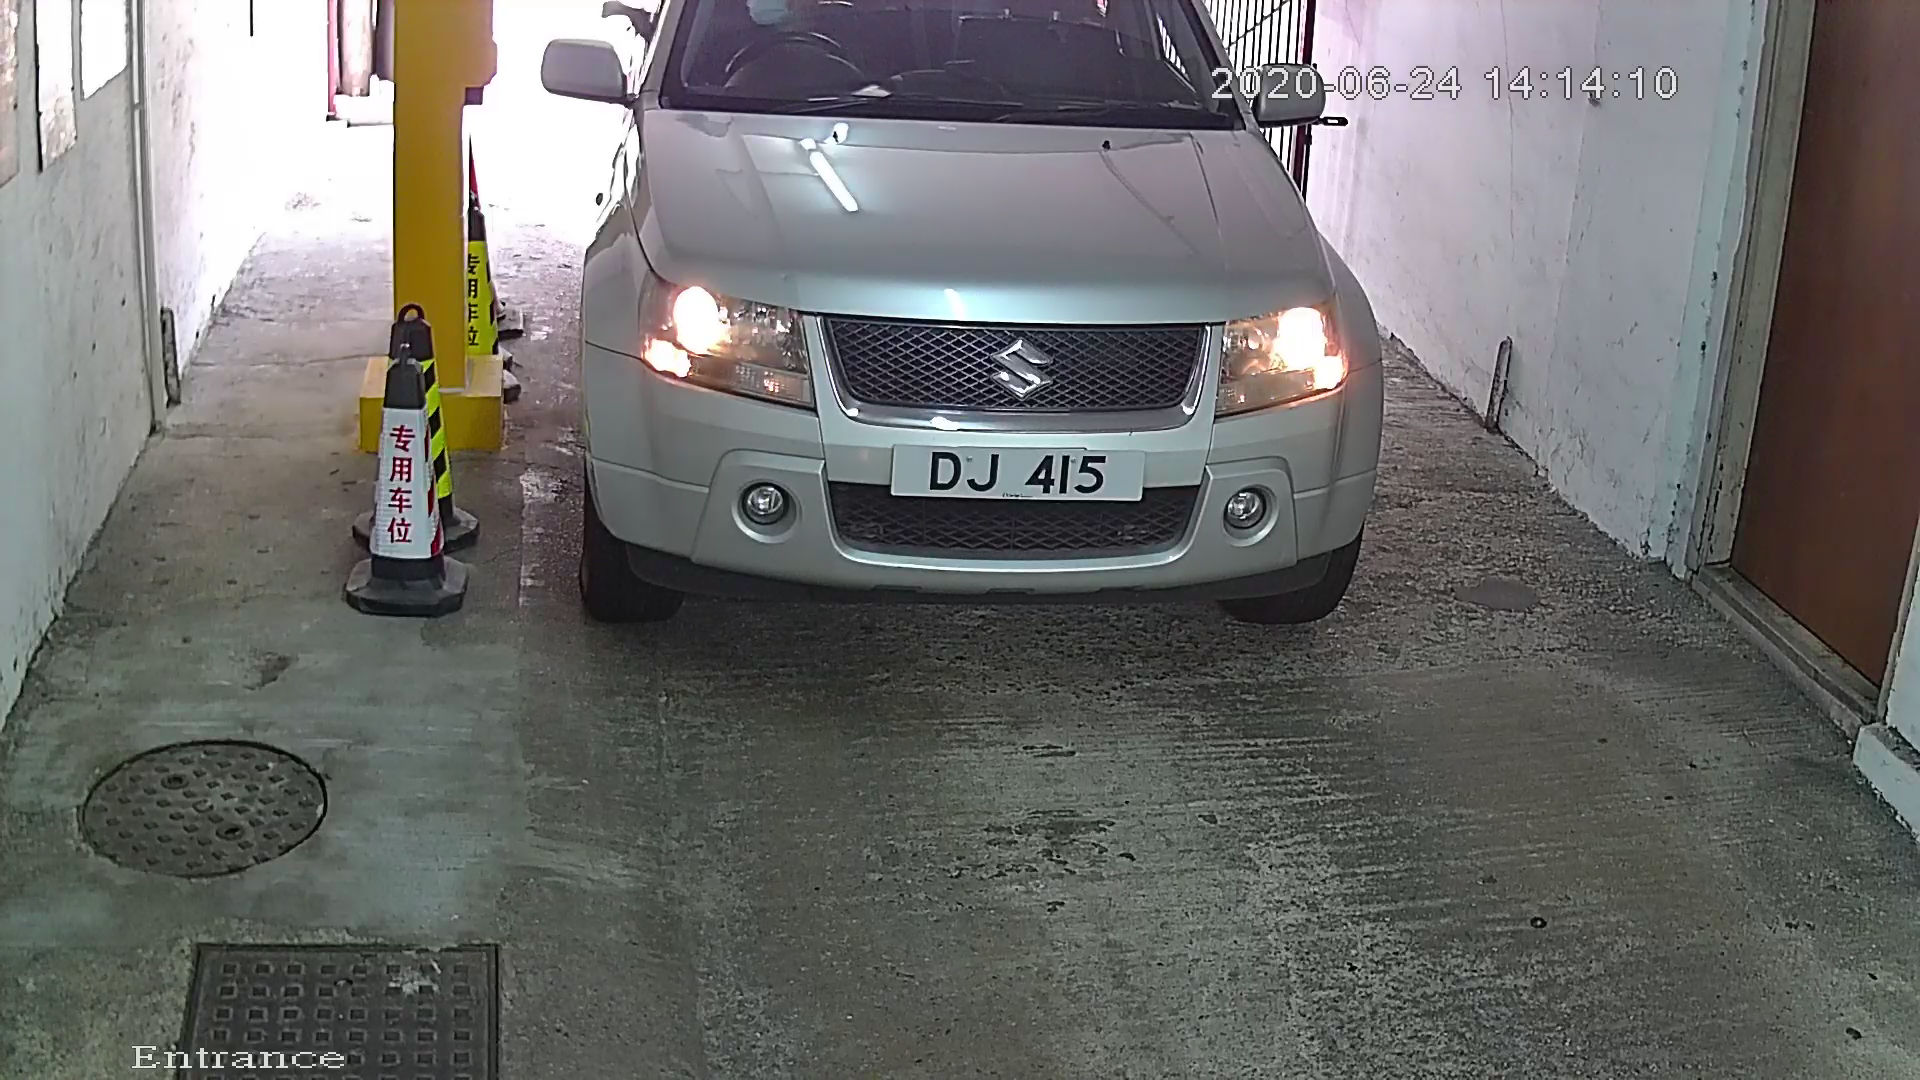Car: (536, 1, 1413, 654)
License Plate: (873, 423, 1163, 526)
